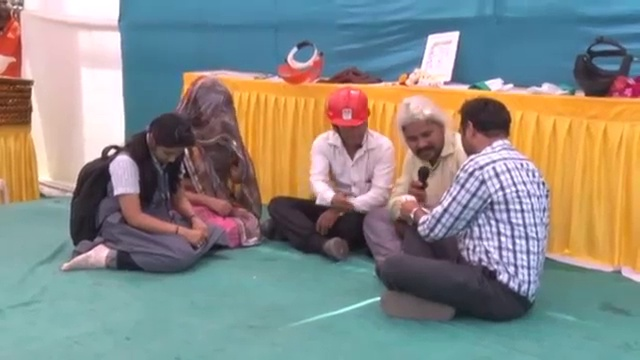helmet: (321, 88, 371, 133)
helmet_off: (452, 97, 519, 162), (181, 80, 239, 144), (396, 97, 450, 164), (141, 109, 194, 169), (0, 0, 15, 28)
helmet_on: (318, 89, 374, 149)
person: (379, 96, 552, 323), (61, 110, 220, 274), (265, 81, 399, 260), (361, 95, 470, 260), (170, 70, 264, 247), (0, 2, 27, 74)
